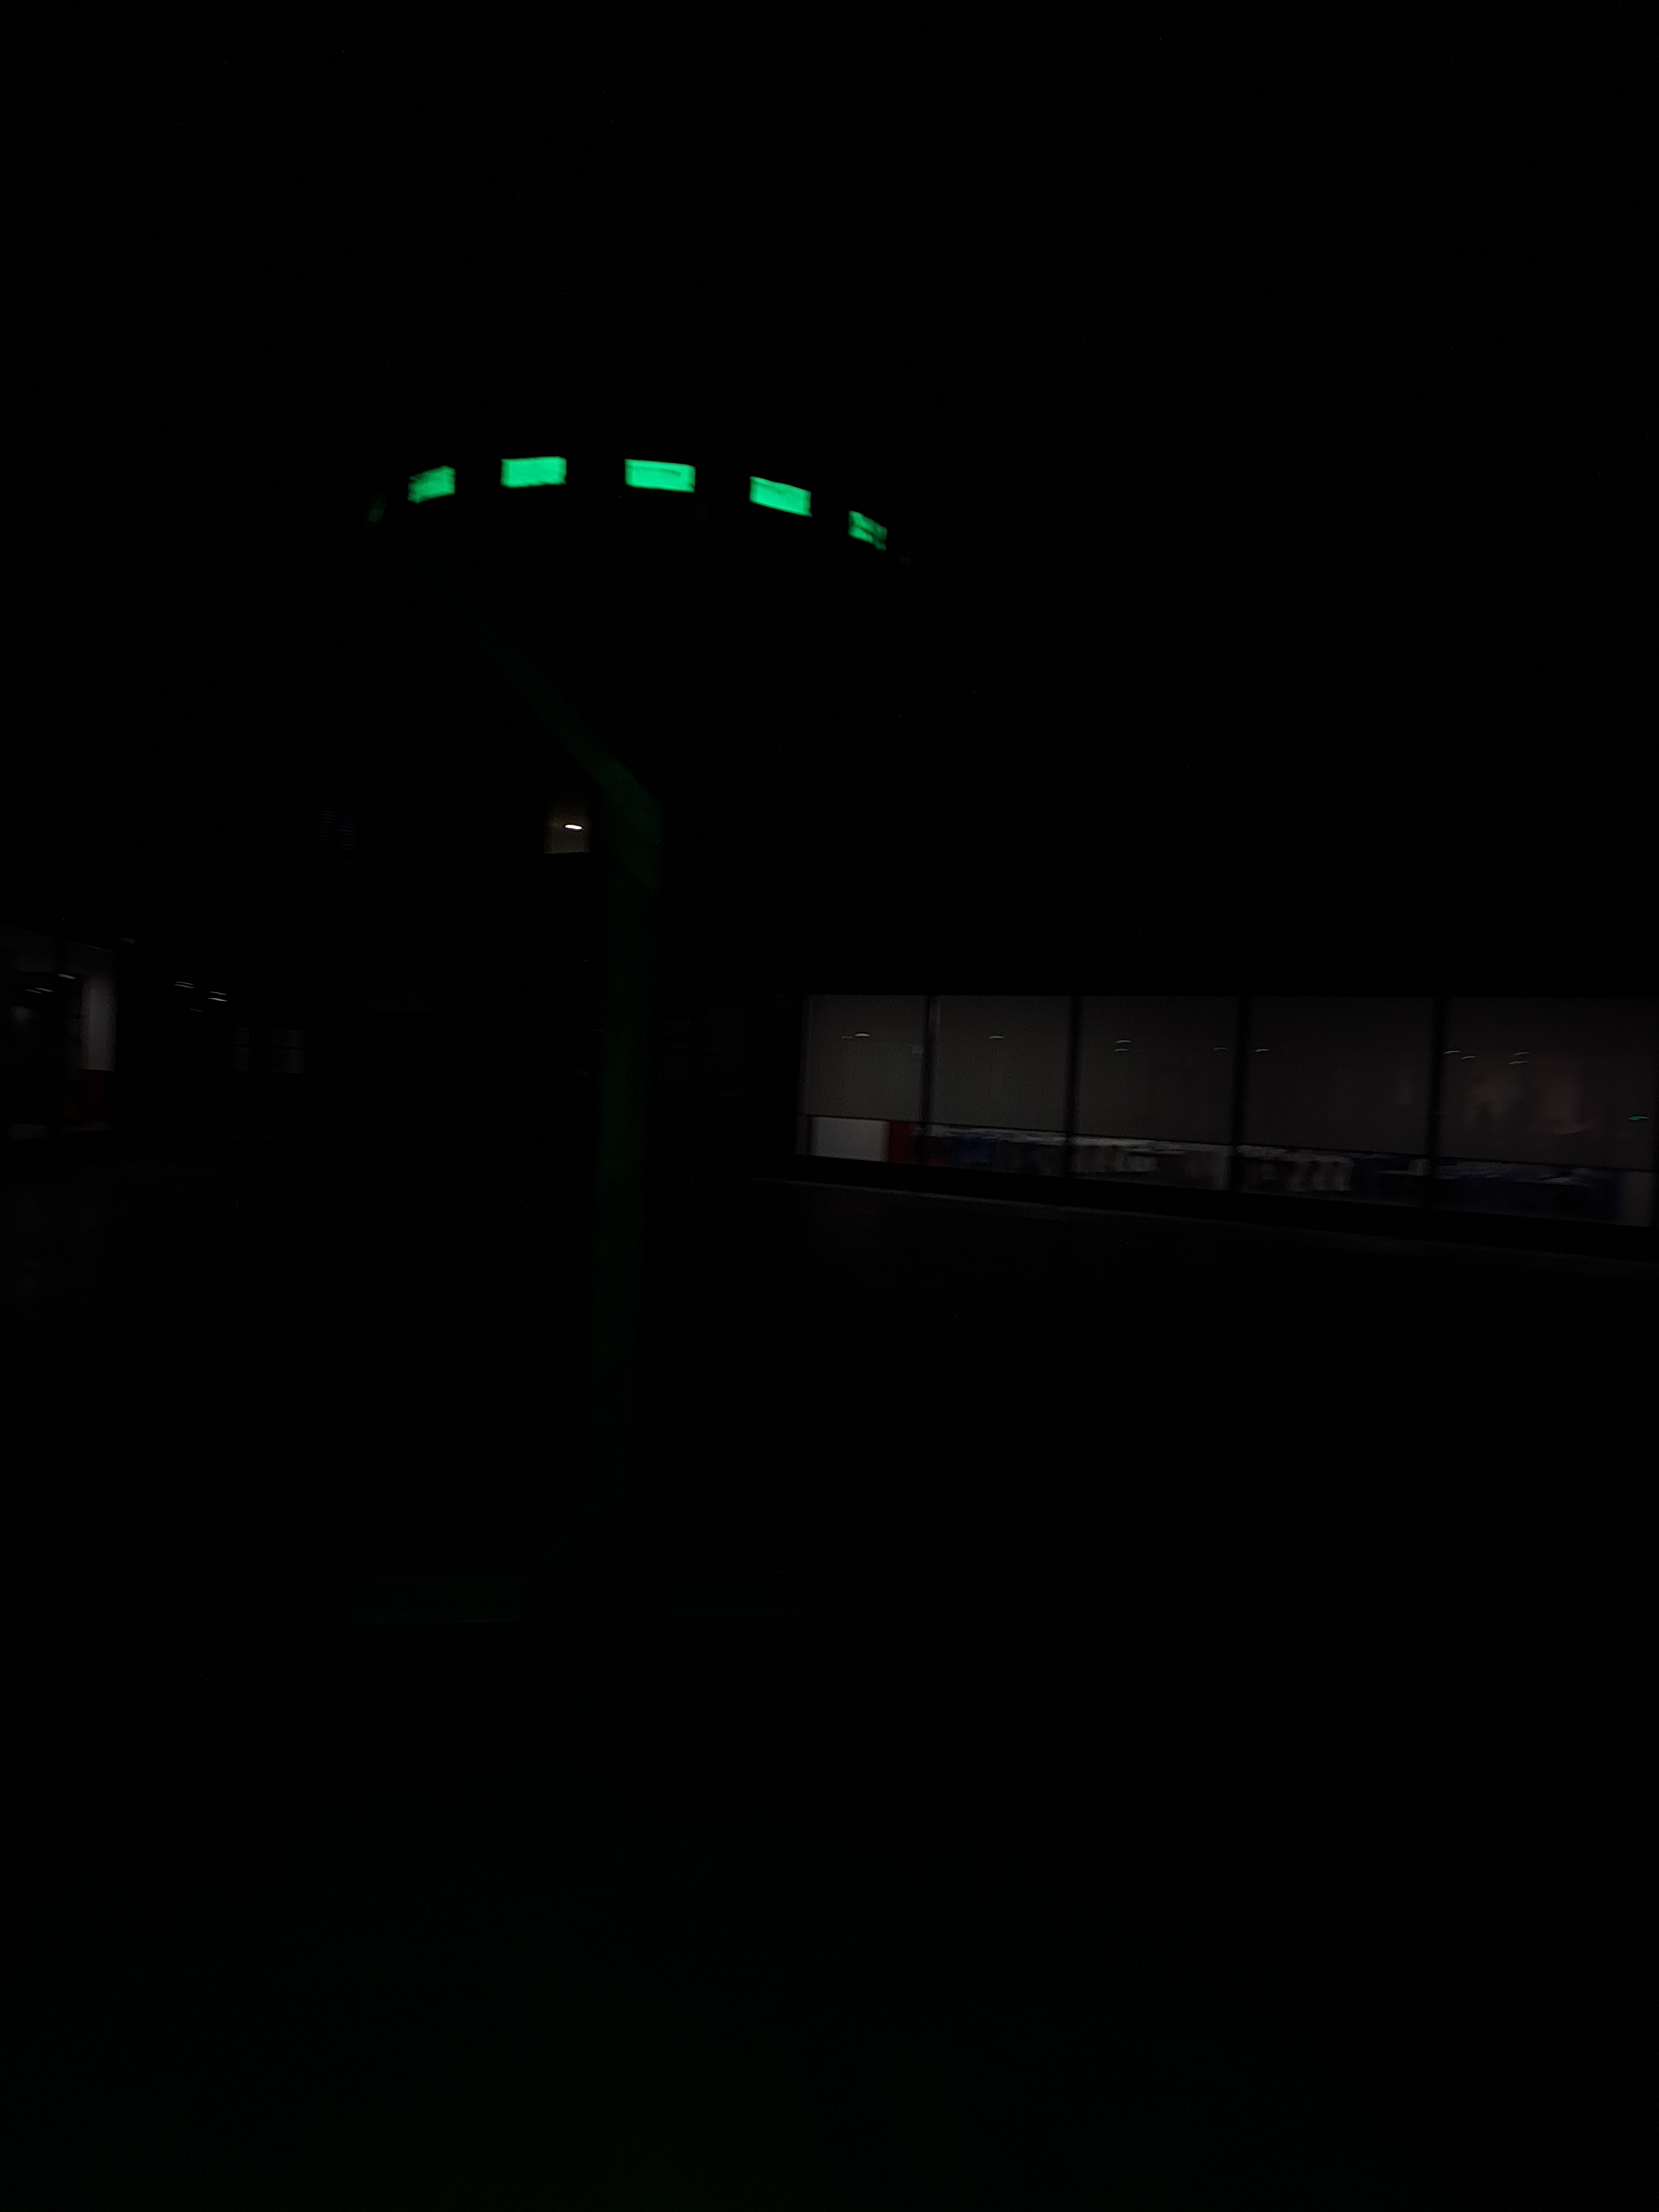hoop: (404, 435, 890, 564)
